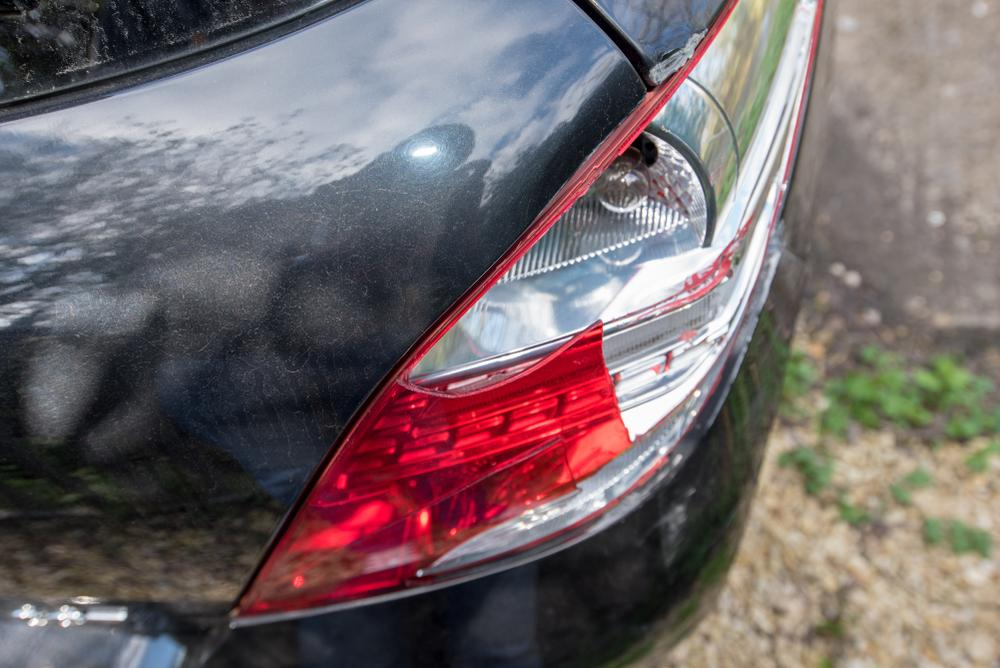lamp broken: (227, 0, 823, 622)
